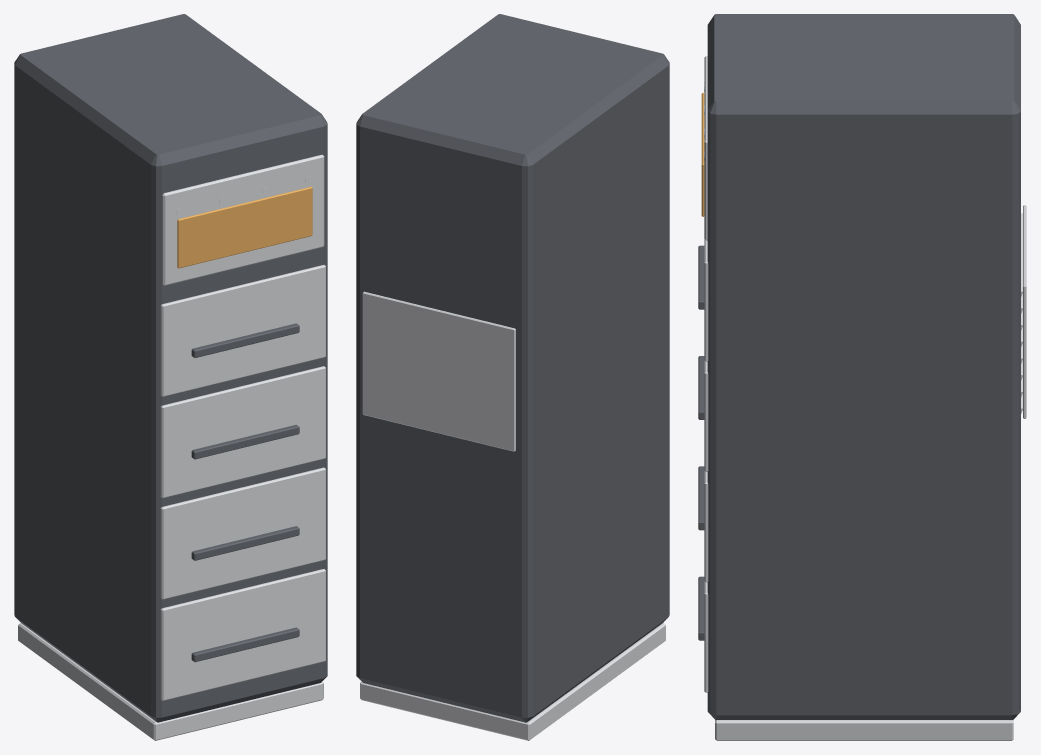
Rendered from office-lobby-and-facilities-ups-cabinet-068f2ef6__26198.glb.
3 renders of one model, left to right at view 1: azimuth 30°, elevation 25°; view 2: azimuth 150°, elevation 25°; view 3: azimuth 270°, elevation 25°, orthographic. The views are drawn at different scales.
Visible parts, largest first — view 1: ups-cabinet; view 2: ups-cabinet; view 3: ups-cabinet.
Boxes of the visible parts, x1,y1,x2,y2 form: ups-cabinet: [14, 14, 327, 740]; ups-cabinet: [356, 14, 669, 740]; ups-cabinet: [698, 14, 1026, 740].
Bounding box in the file's own units: 0.6001 × 1.91 × 0.89.
